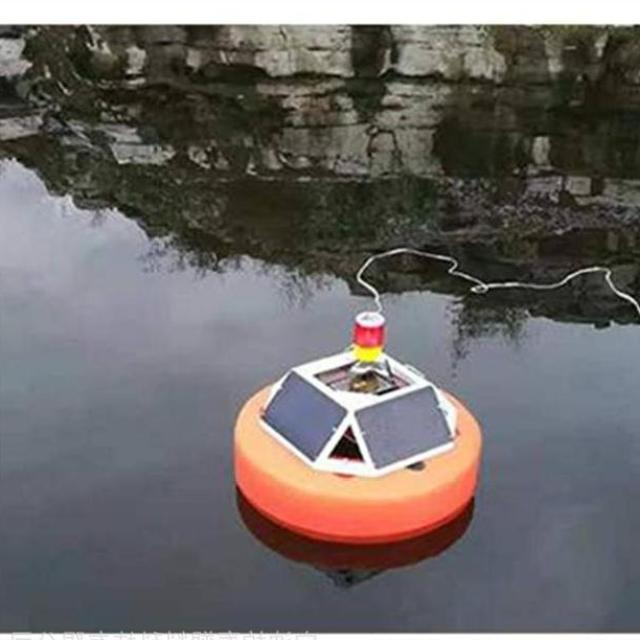buoy: (231, 307, 487, 538)
